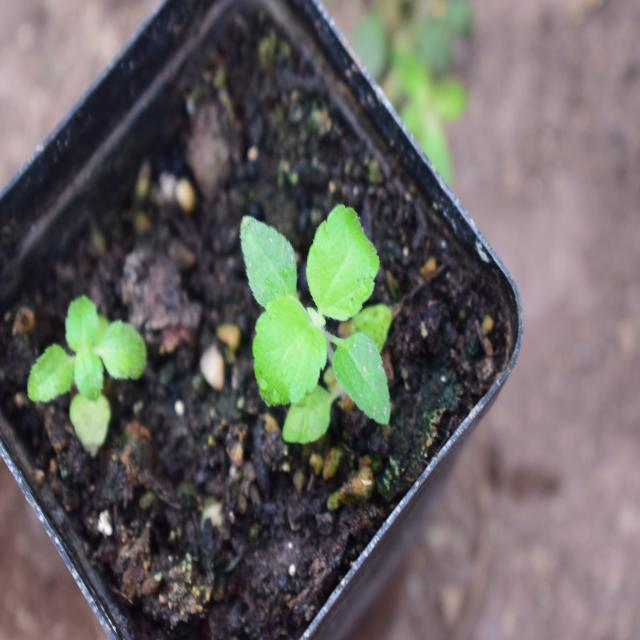billygoat_weed: (231, 174, 409, 429)
